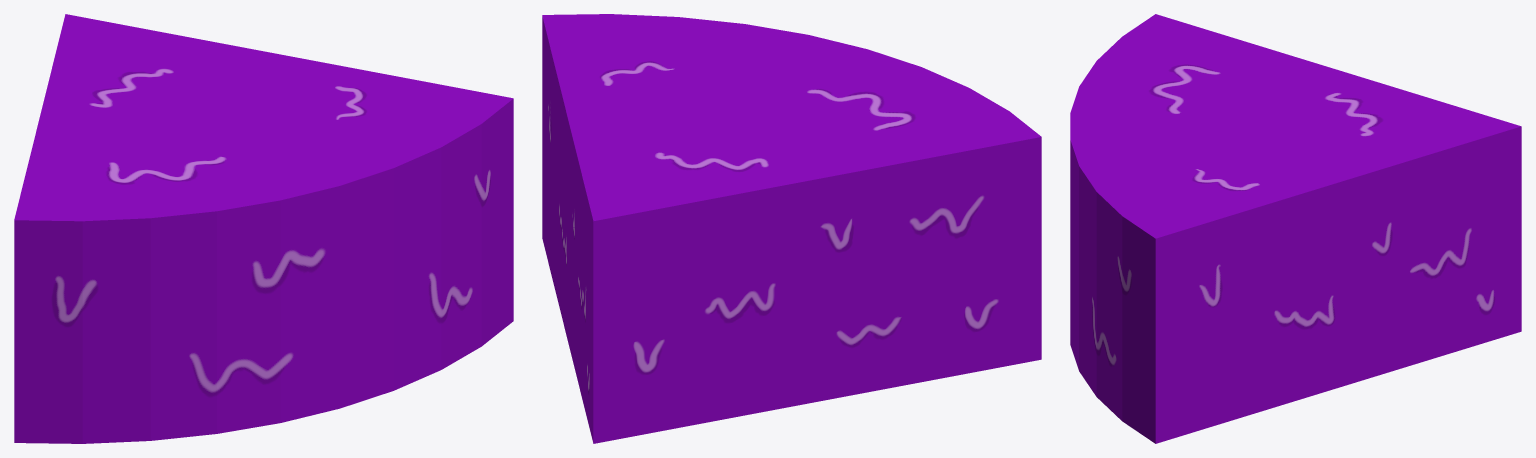
File: yuka_naisyu.fbx
The picture shows the model from 3 angles, left to right: view 1: azimuth 30°, elevation 25°; view 2: azimuth 150°, elevation 25°; view 3: azimuth 270°, elevation 25°; orthographic projection. The views are drawn at different scales.
Visible parts, largest first — view 1: Cylinder; view 2: Cylinder; view 3: Cylinder.
Part boxes in pixels (x1,y1,x2,y2): Cylinder: (14,14,513,443); Cylinder: (542,14,1041,443); Cylinder: (1070,14,1521,443).
Size of the model in its own units: 1878 by 800 by 1594.
